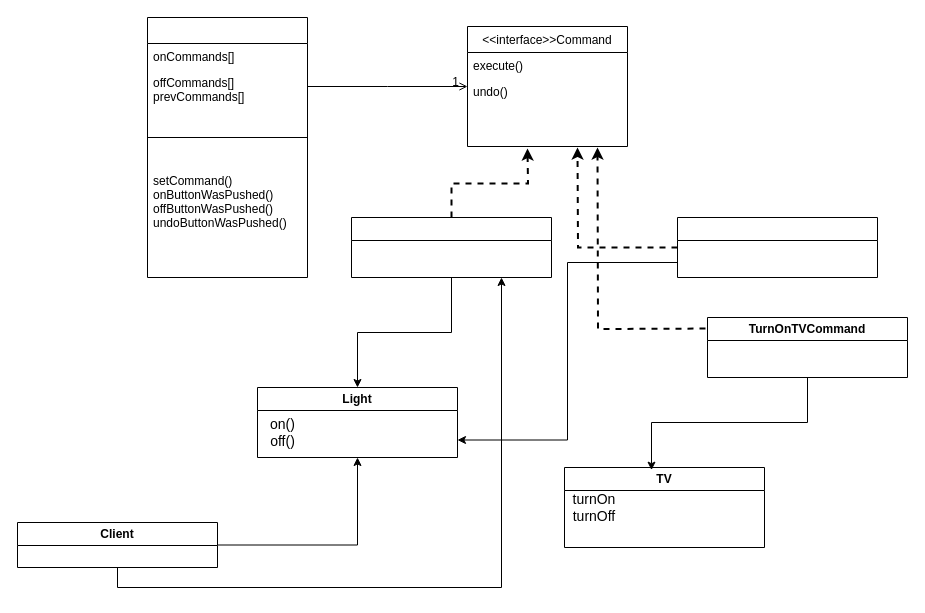
Image size: 925x613. Some labels were removed from this diagram. The box of each missing label's shape, as (x1, y1, x2, y2) in pixels:
LightOffCommand: (676, 216, 878, 278)
LightOnCommand: (350, 216, 552, 278)
RemoteControl: (146, 16, 308, 278)
